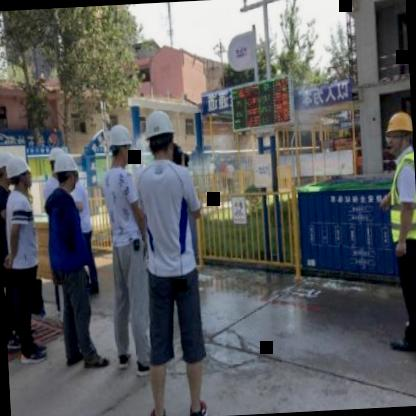helmet: (144, 106, 176, 162), (382, 105, 414, 157), (104, 119, 134, 168), (3, 152, 36, 194), (51, 150, 80, 196), (0, 150, 14, 185)
